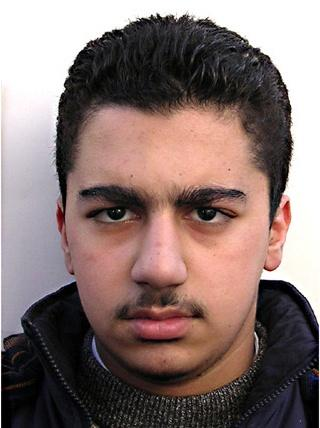No Mask: (10, 9, 319, 423)
